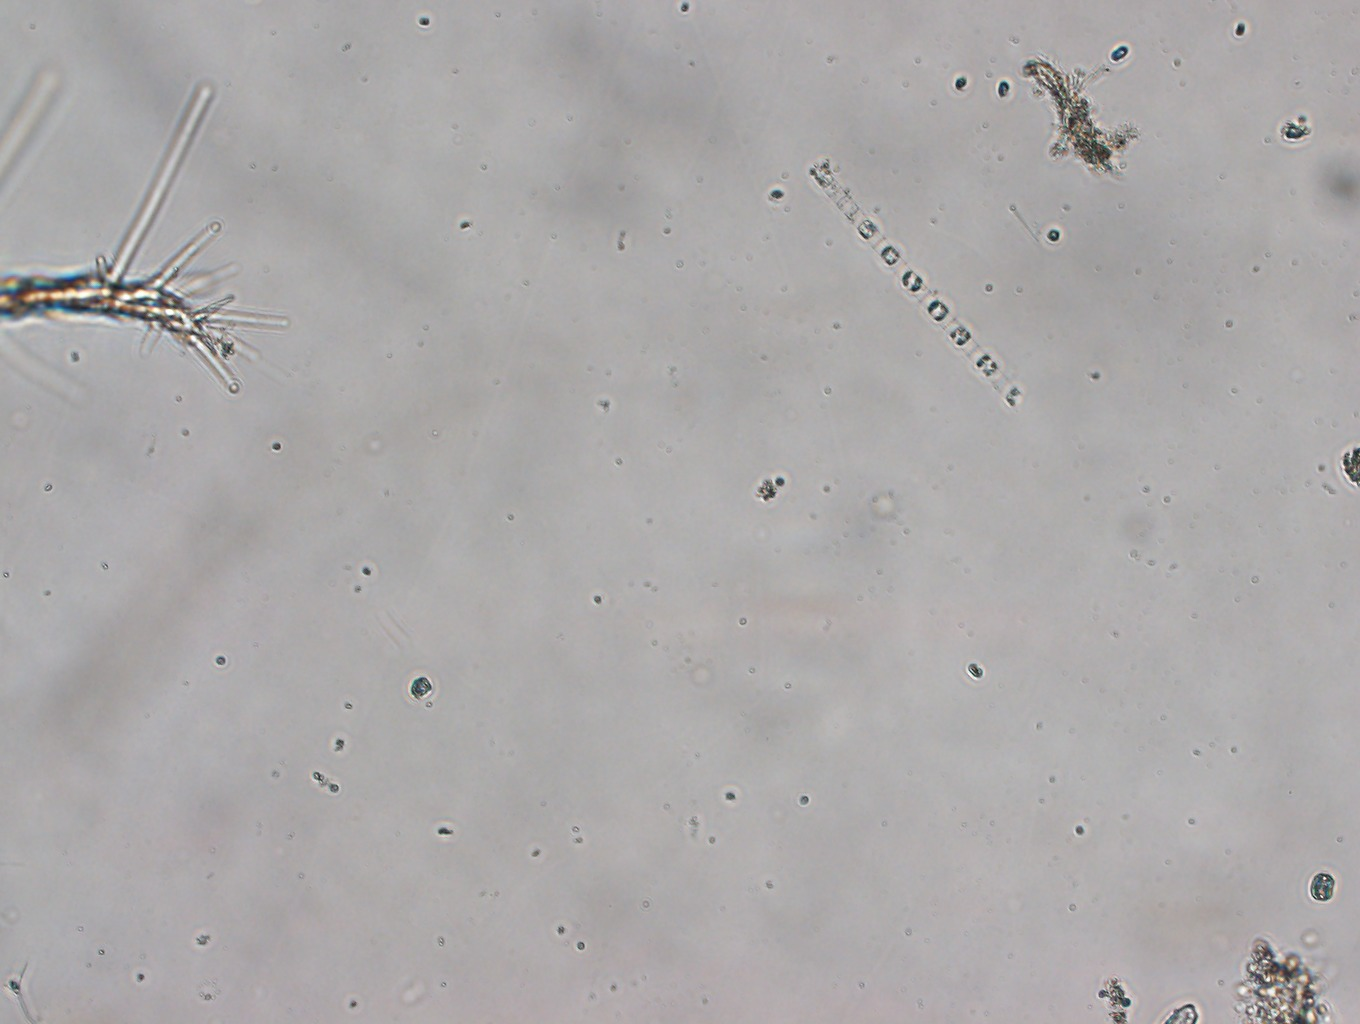skeletonema: (842, 196, 1028, 428)
